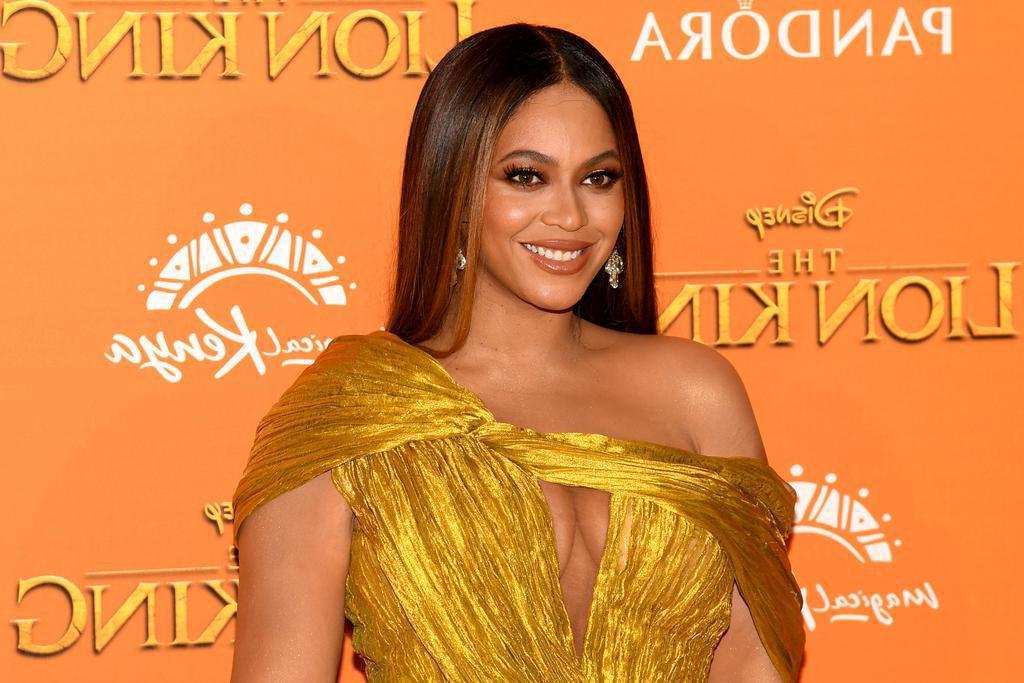Sober: (483, 100, 620, 307)
